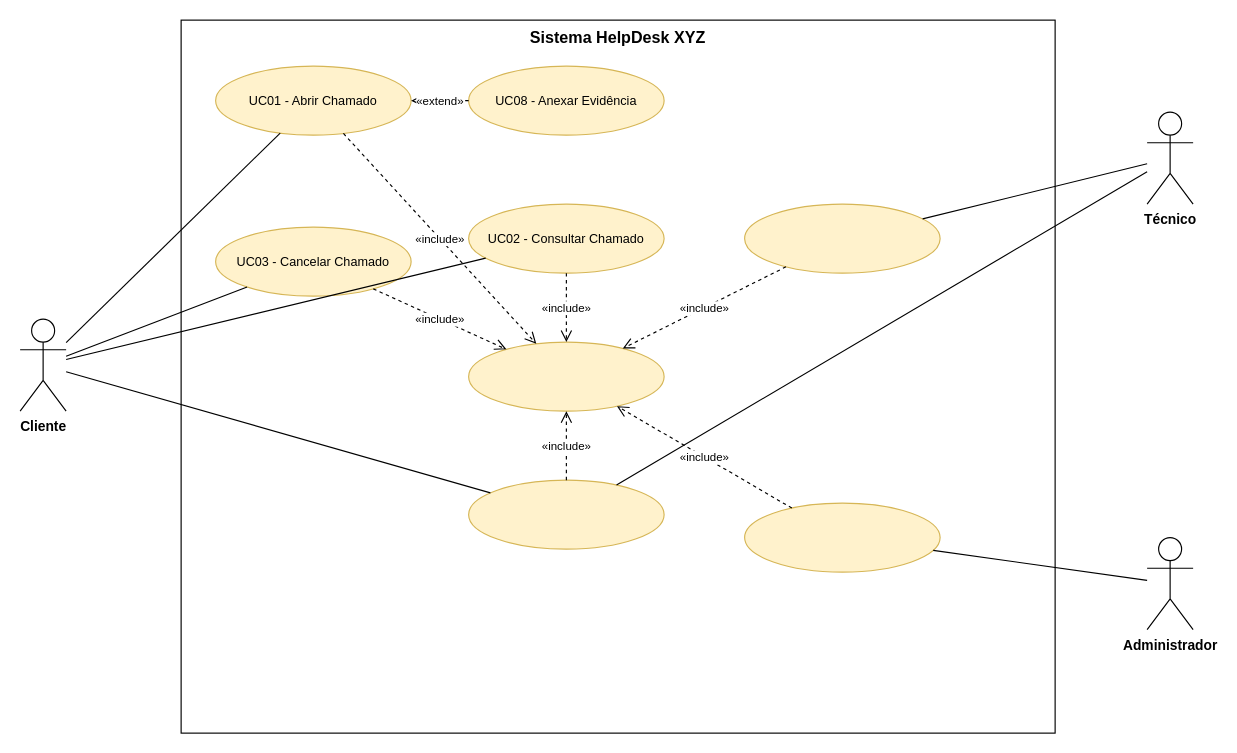
Image size: 1237x753. Some labels were removed from this diagram. Here are the shapes that lost their labels. From the top down, the centre of each, then its label:
the point at 841,238: UC05 - Atender Chamado
the point at 565,376: UC07 - Validar Sessão
the point at 565,514: UC06 - Comentar Chamado
the point at 841,537: UC04 - Atribuir Chamado
